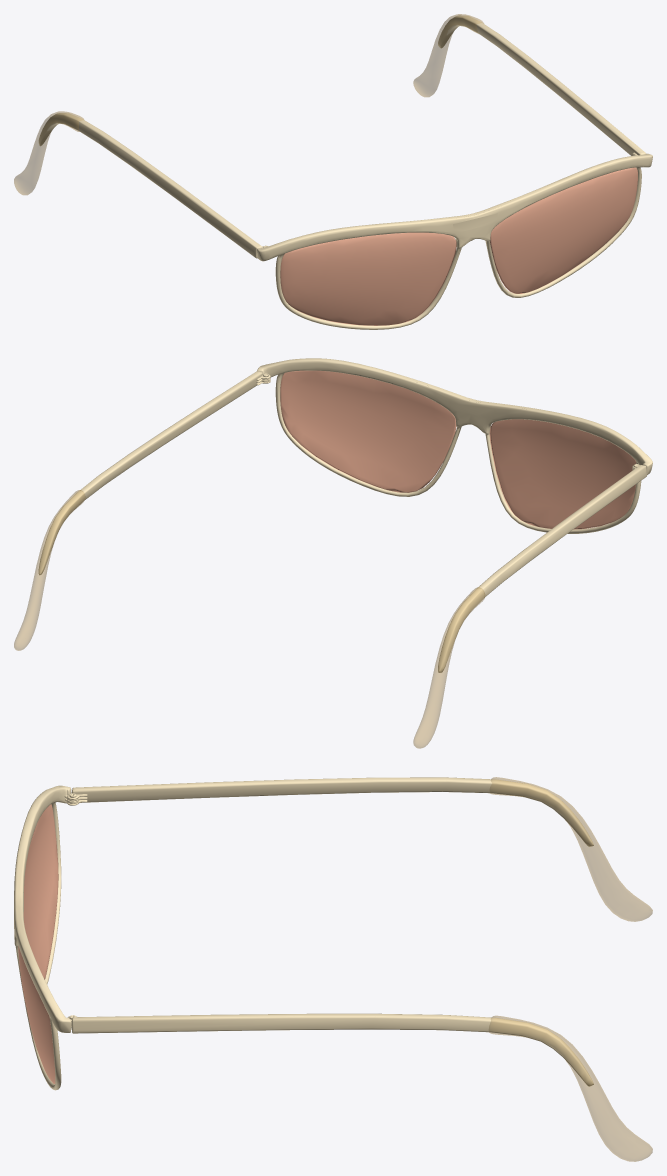
The model's file is white_gold_sunglasses_fixed_origin_compressed_decimated.glb.
3 views of the same model, one above another, from view 1: azimuth 30°, elevation 25°; view 2: azimuth 150°, elevation 25°; view 3: azimuth 270°, elevation 25° (orthographic). The views are drawn at different scales.
Visible parts, largest first — view 1: Object_4; view 2: Object_4; view 3: Object_4.
Boxes of the visible parts, box(x1,y1,x2,y2) form: Object_4: box(14, 14, 652, 329); Object_4: box(14, 358, 652, 748); Object_4: box(14, 777, 652, 1161).
Bounding box in the file's own units: 0.1492 × 0.044 × 0.1642.
